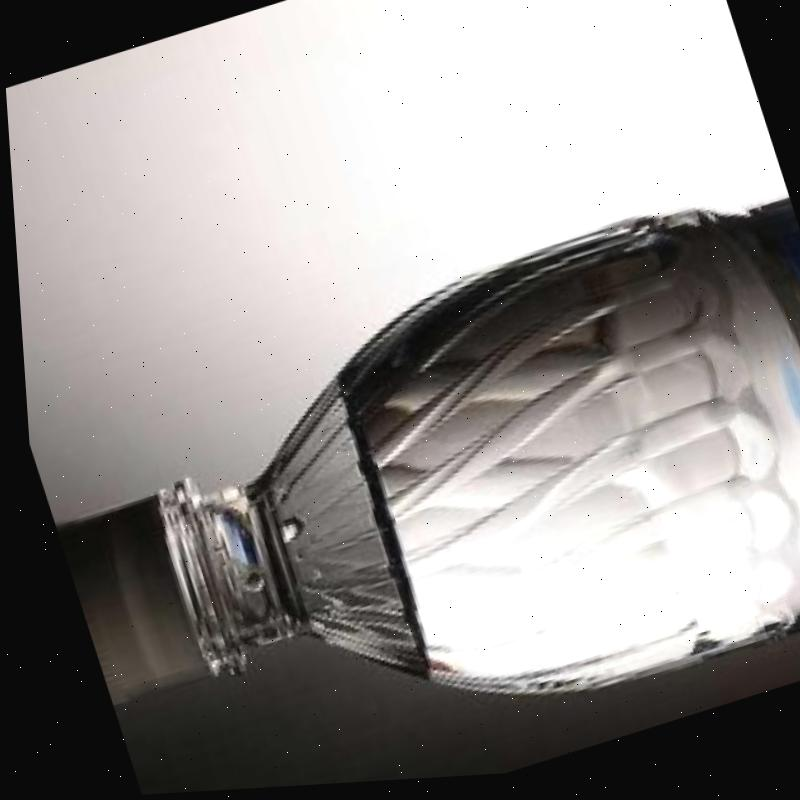botella: (11, 179, 800, 800)
